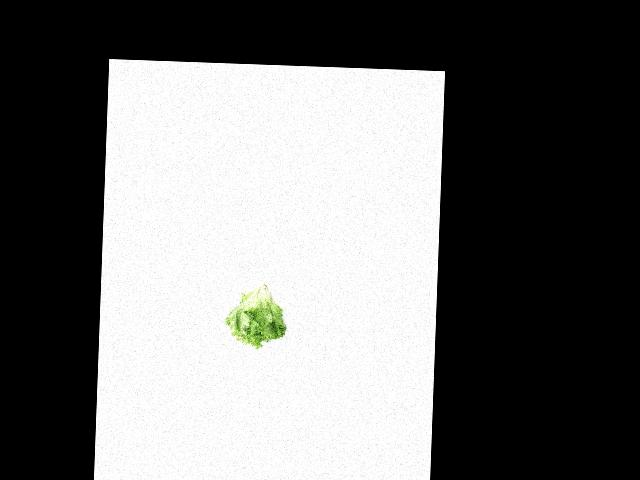lettuce: (222, 282, 289, 348)
